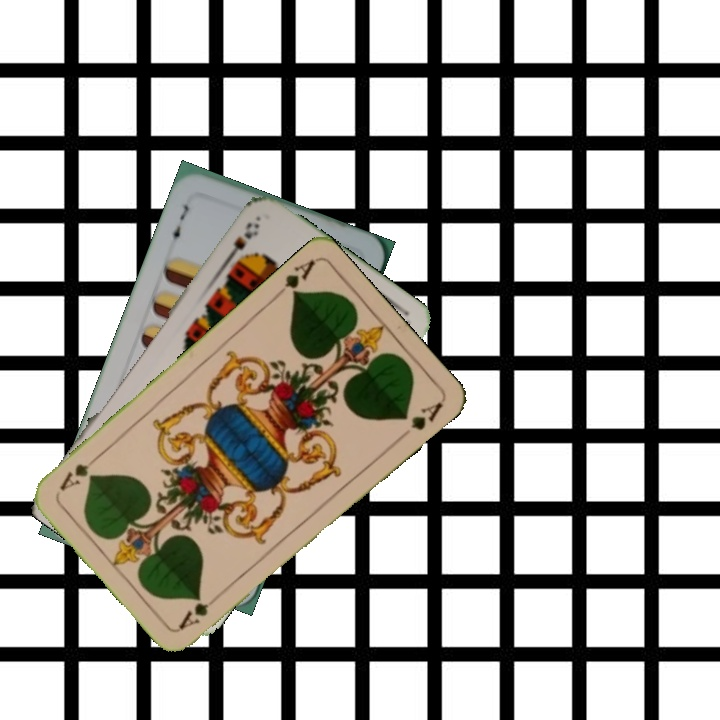E7: (166, 201, 192, 247)
GA: (270, 255, 318, 302), (175, 588, 224, 633)
S9: (221, 214, 262, 266)
